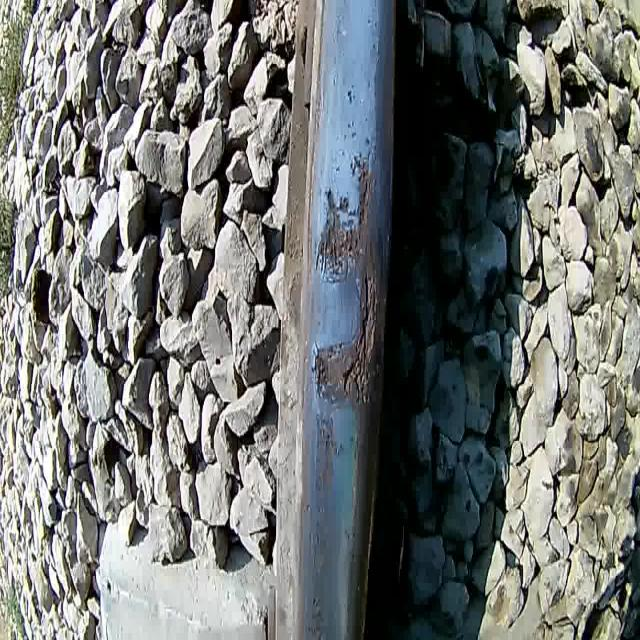Cracks: (340, 262, 379, 412), (321, 310, 362, 364), (313, 233, 351, 285), (311, 339, 327, 408)
Spallings: (318, 155, 374, 261)
Squats: (309, 147, 386, 416), (308, 404, 344, 505)
